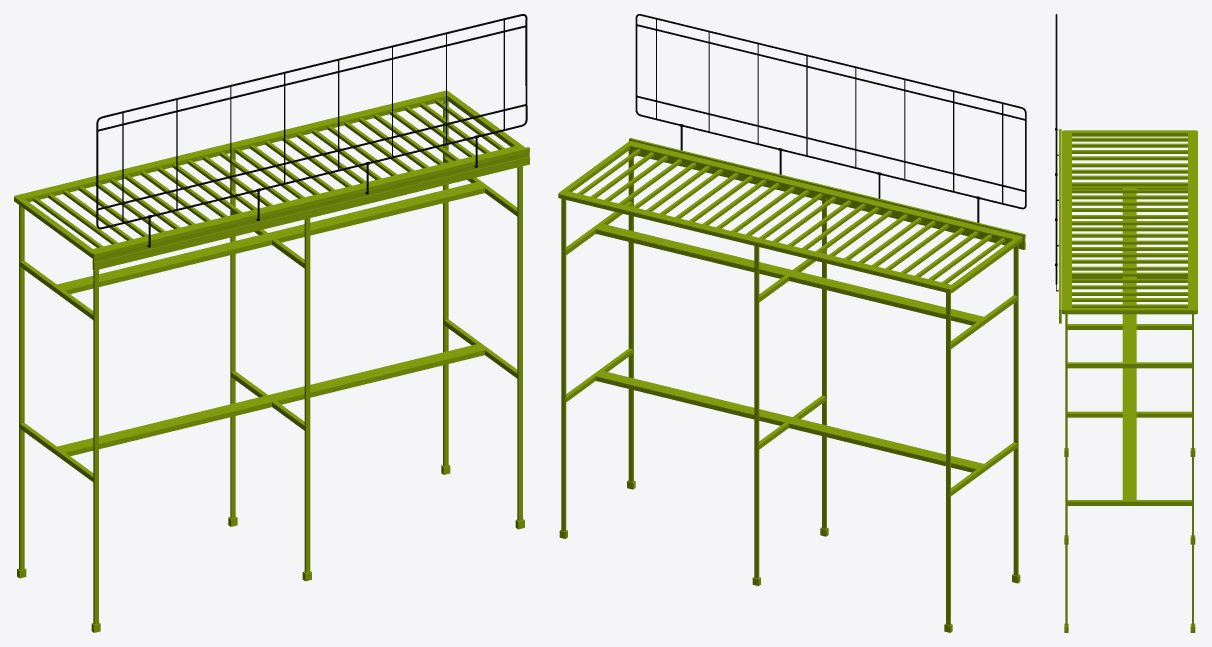
Rendered from StairLeg1.fbx.
3 views of the same model, side by side, from view 1: azimuth 30°, elevation 25°; view 2: azimuth 150°, elevation 25°; view 3: azimuth 270°, elevation 25° (orthographic). The views are drawn at different scales.
Parts seen in each view (by area): view 1: StairLeg1; view 2: StairLeg1; view 3: StairLeg1.
Boxes of the visible parts, x1,y1,x2,y2 form: StairLeg1: (14,14,529,632); StairLeg1: (558,14,1026,632); StairLeg1: (1055,14,1197,632).
Size of the model in its own units: 372 by 423 by 124.
